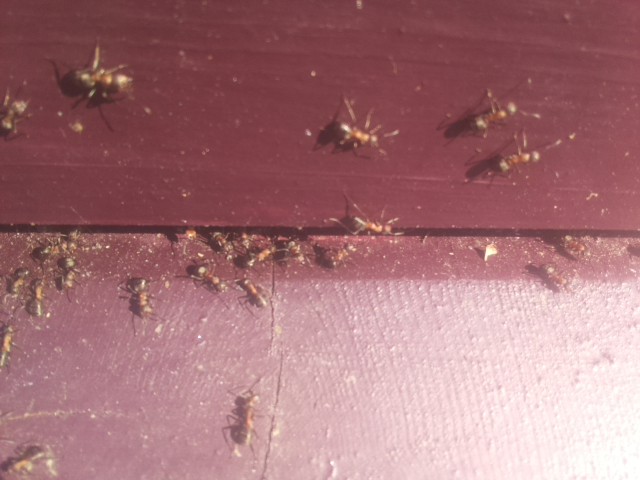ant: (68, 58, 137, 115), (460, 90, 523, 144), (181, 255, 233, 298), (485, 144, 548, 178), (227, 388, 261, 450), (0, 442, 53, 480), (230, 270, 272, 314), (0, 92, 34, 142), (126, 272, 158, 324), (334, 116, 379, 151), (346, 214, 401, 237), (0, 319, 20, 374), (56, 251, 77, 297), (542, 260, 571, 293), (6, 266, 31, 295), (29, 278, 45, 320), (283, 240, 307, 267), (563, 233, 585, 259), (242, 247, 277, 263)
